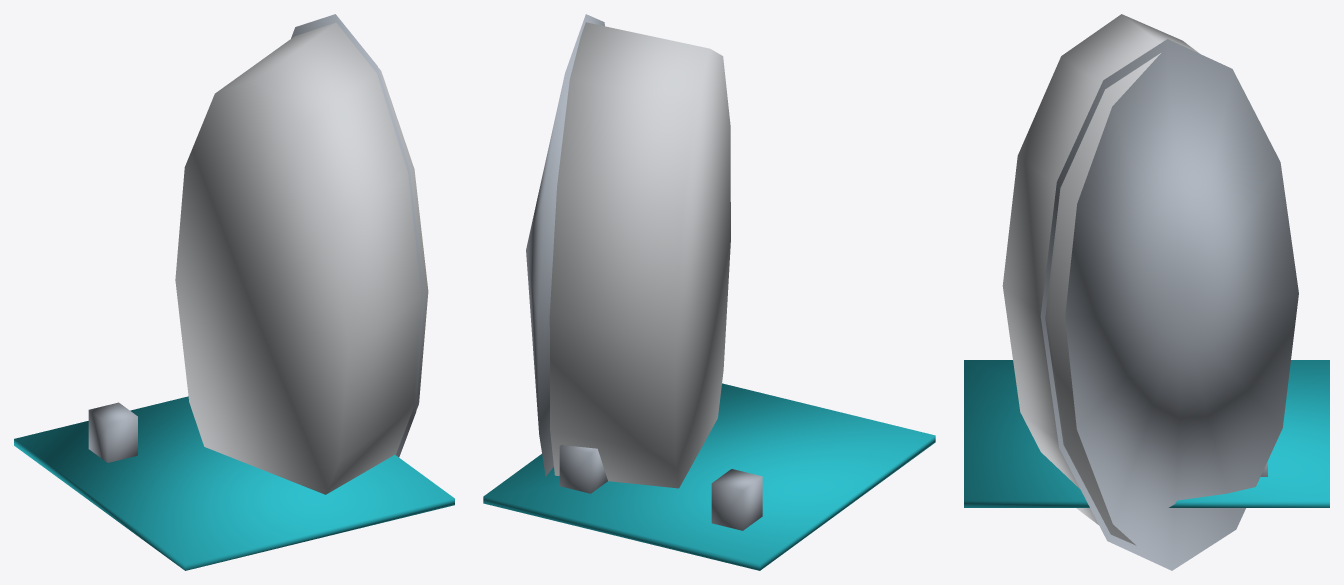
Rendered from water-tower-wreck.glb.
3 renders of one model, left to right at view 1: azimuth 30°, elevation 25°; view 2: azimuth 150°, elevation 25°; view 3: azimuth 270°, elevation 25°, orthographic. The views are drawn at different scales.
Parts seen in each view (by area): view 1: world; view 2: world; view 3: world.
Part boxes in pixels (<box>): world: <box>14,14,454,570</box>; world: <box>483,14,935,570</box>; world: <box>964,14,1329,570</box>.
Size of the model in its own units: 9 by 14.5 by 9.
